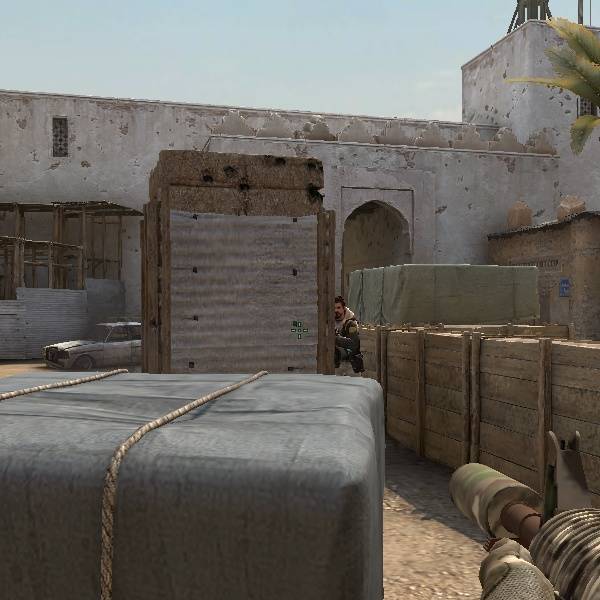t_body: (326, 295, 365, 376)
